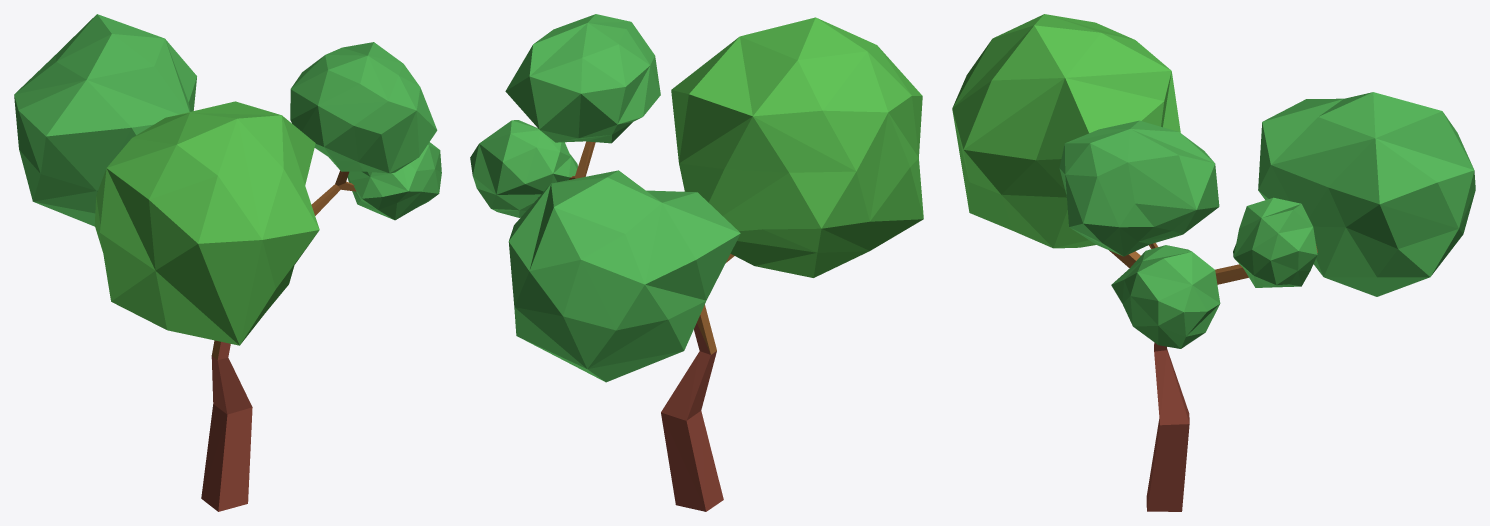
File: tree.fbx
The picture shows the model from 3 angles, left to right: view 1: azimuth 30°, elevation 25°; view 2: azimuth 150°, elevation 25°; view 3: azimuth 270°, elevation 25°; orthographic projection. The views are drawn at different scales.
Parts seen in each view (by area): view 1: 棱角球.009; view 2: 棱角球.009; view 3: 棱角球.009.
Part boxes in pixels (left/top/right/bottom): 棱角球.009: left=14, top=14, right=441, bottom=511; 棱角球.009: left=470, top=14, right=923, bottom=511; 棱角球.009: left=952, top=14, right=1475, bottom=511.
Bounding box in the file's own units: 446 × 493 × 515.
